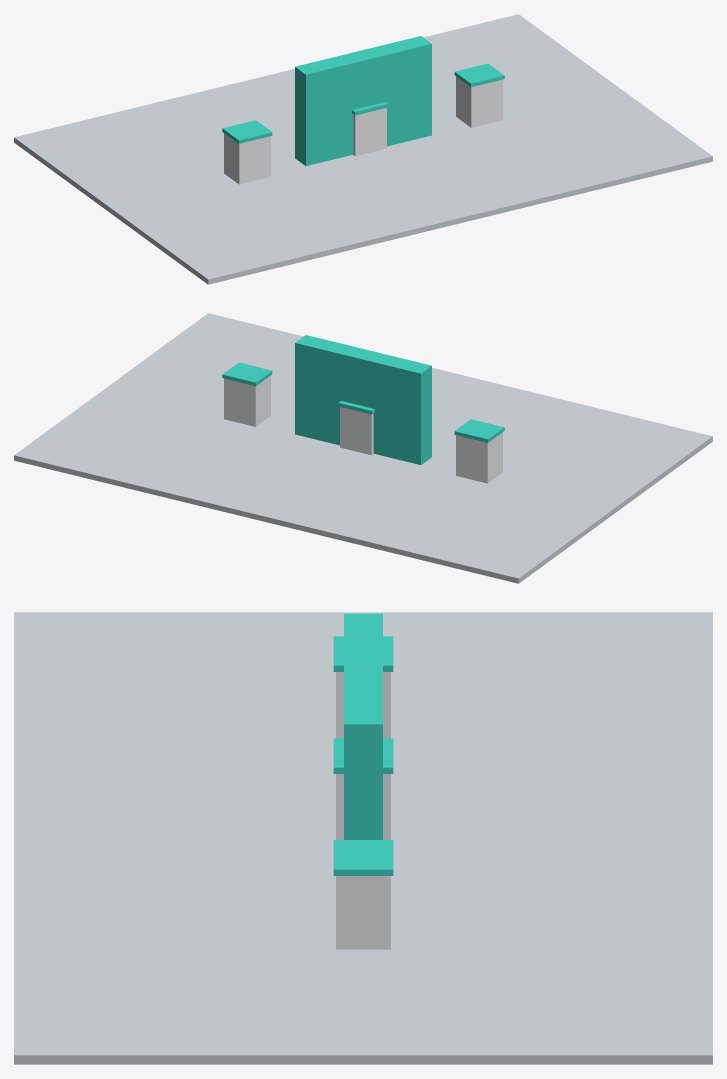
3 views of the same model, one above another, from view 1: azimuth 30°, elevation 25°; view 2: azimuth 150°, elevation 25°; view 3: azimuth 270°, elevation 25° (orthographic). The views are drawn at different scales.
Visible parts, largest first — view 1: Exhibition Booth Concept; view 2: Exhibition Booth Concept; view 3: Exhibition Booth Concept.
Part boxes in pixels (<box>): Exhibition Booth Concept: <box>14,14,712,284</box>; Exhibition Booth Concept: <box>14,313,712,583</box>; Exhibition Booth Concept: <box>14,612,712,1064</box>.
Bounding box in the file's own units: 12 × 2.2 × 8.
